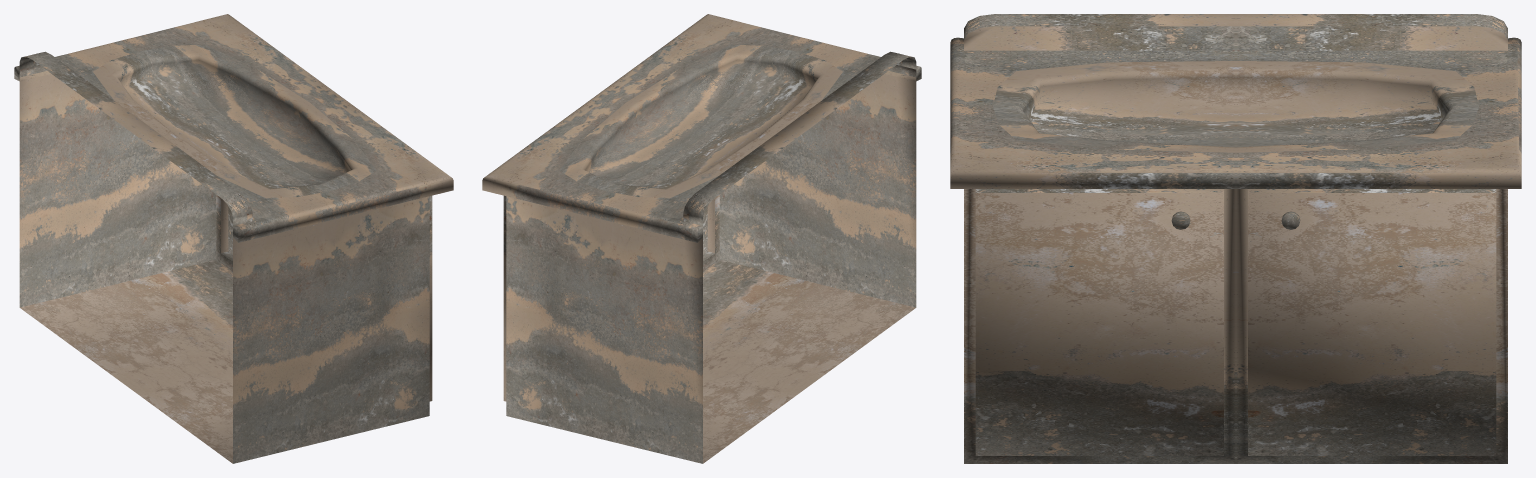
File: lavabo.fbx
3 renders of one model, left to right at view 1: azimuth 30°, elevation 25°; view 2: azimuth 150°, elevation 25°; view 3: azimuth 270°, elevation 25°, orthographic. The views are drawn at different scales.
Visible parts, largest first — view 1: Cube; view 2: Cube; view 3: Cube.
Part boxes in pixels (x1,y1,x2,y2): Cube: (14,14,453,463); Cube: (482,14,921,463); Cube: (950,14,1521,463).
Bounding box in the file's own units: 219 × 250 × 395.
